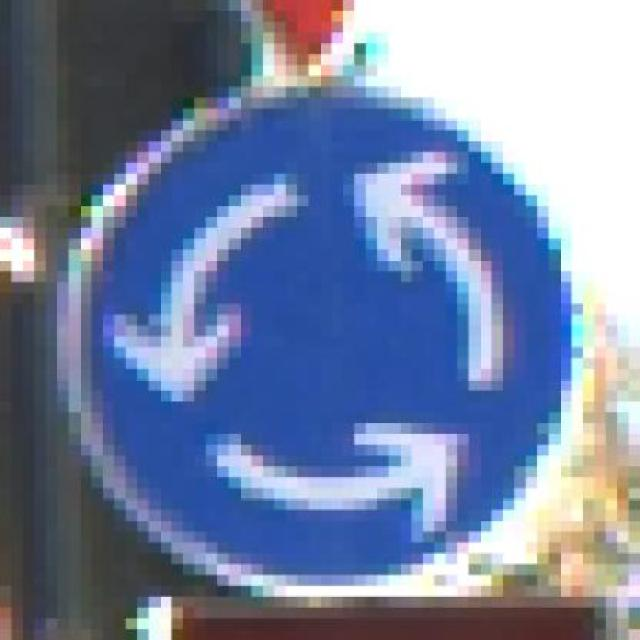Round-About: (45, 76, 606, 586)
